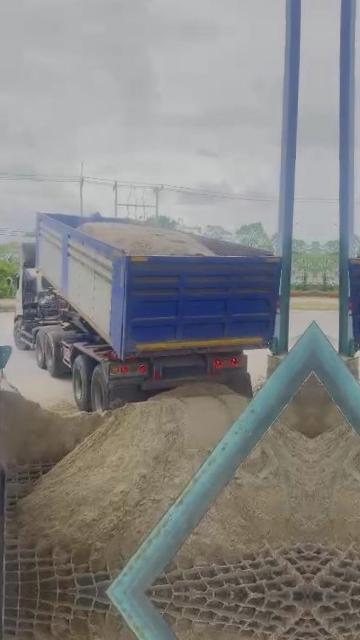sand: (18, 385, 246, 566), (180, 423, 312, 558), (0, 382, 106, 467), (78, 222, 214, 255), (280, 372, 313, 437)
